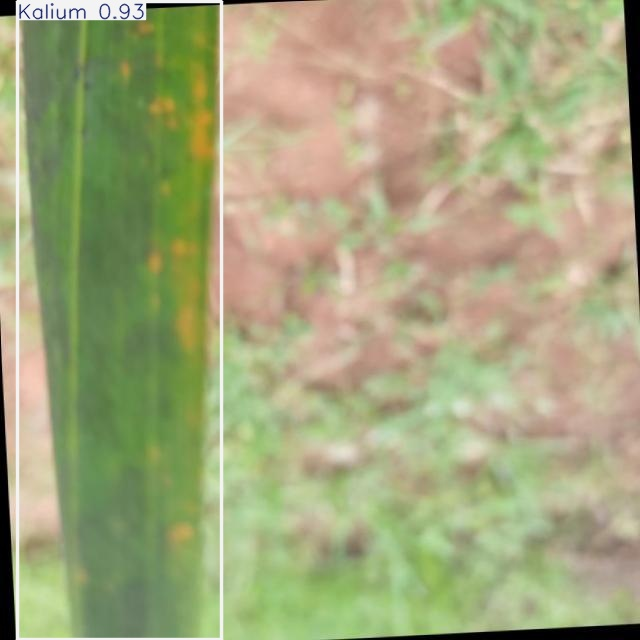Kalium: (17, 2, 221, 639)
